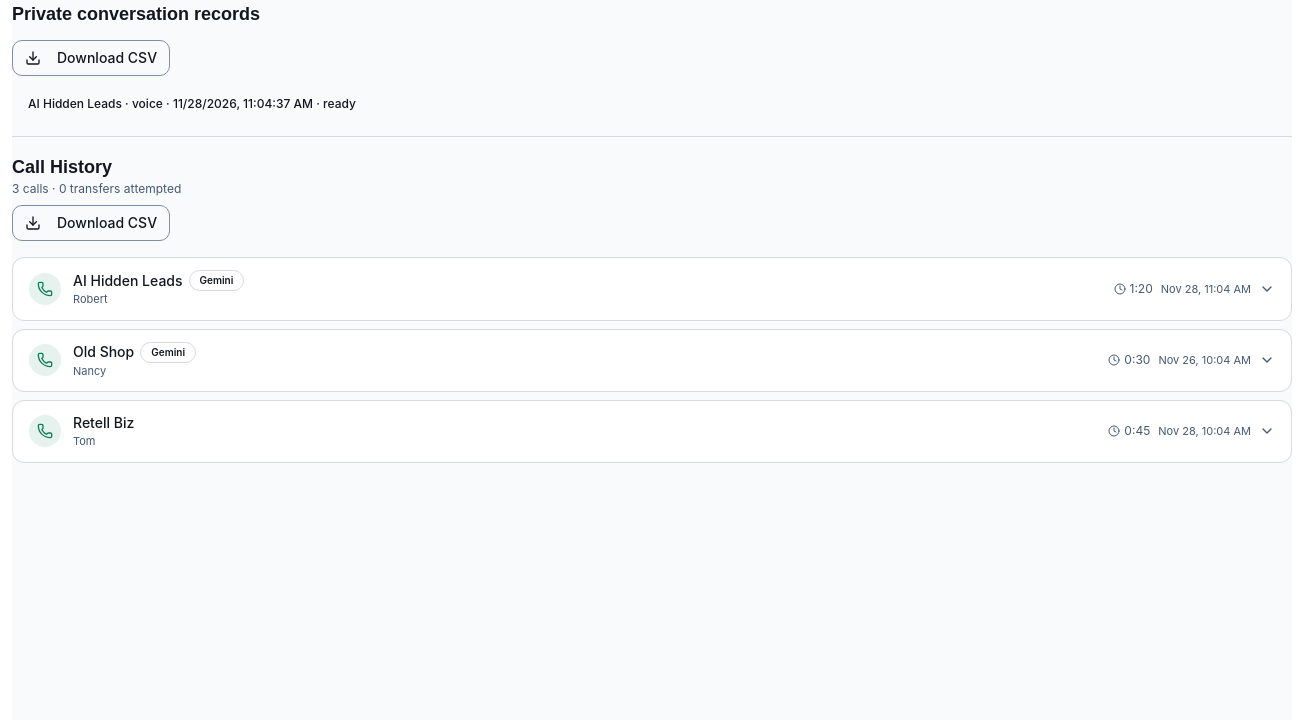
Test: CallHistoryView — Gemini recording join › shows the plain no-recording line for a Gemini call with no matching record
Click the button "Nancy" at point(45, 360), box [13,330,1291,391]
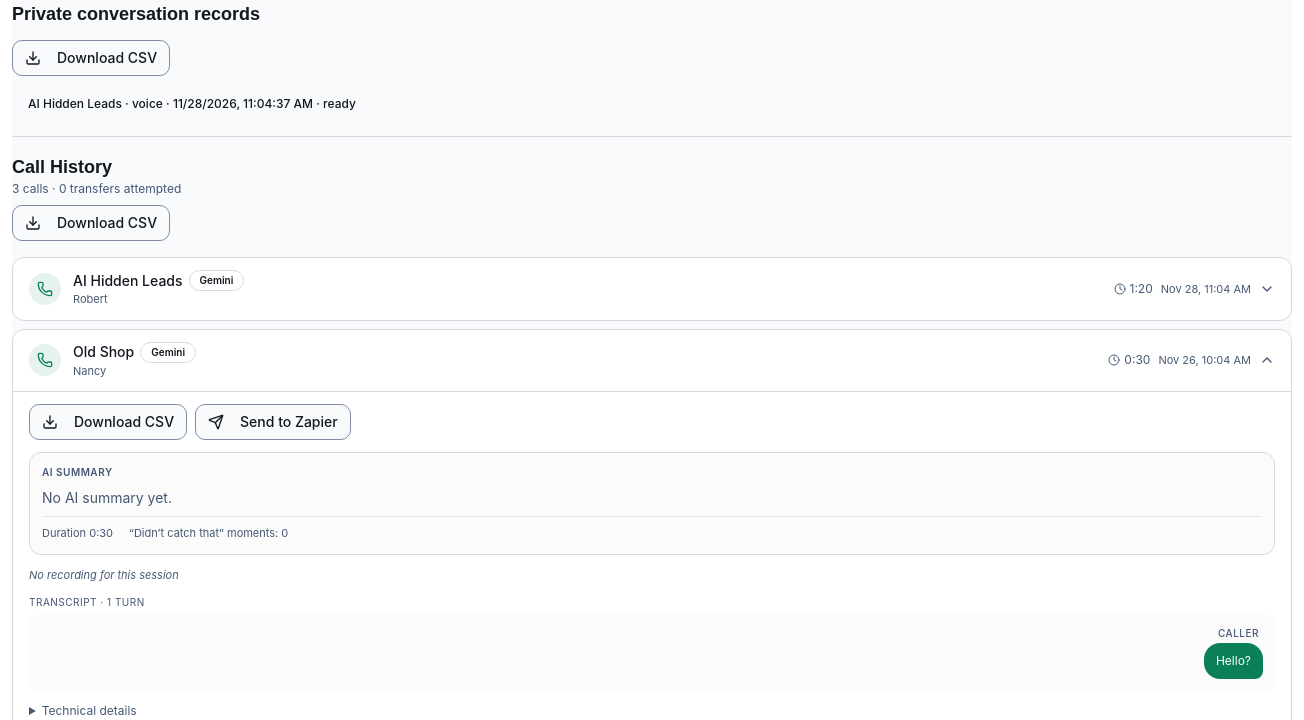
Now the text "No recording for this session" is shown, box [29,568,179,582]
